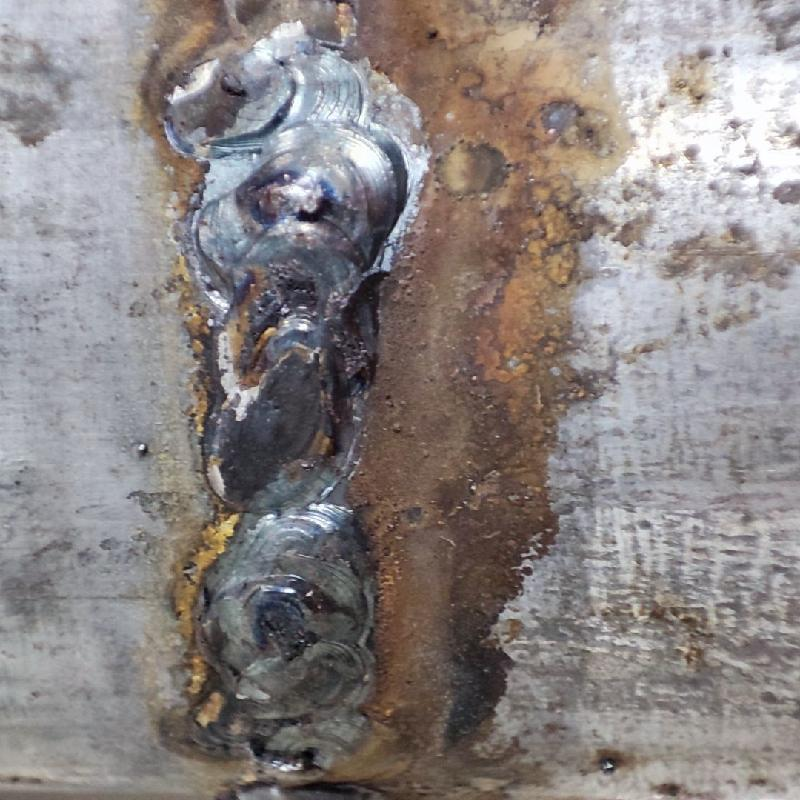Not_fully_soldered: (188, 5, 365, 50)
wrong_size: (189, 54, 393, 719)
